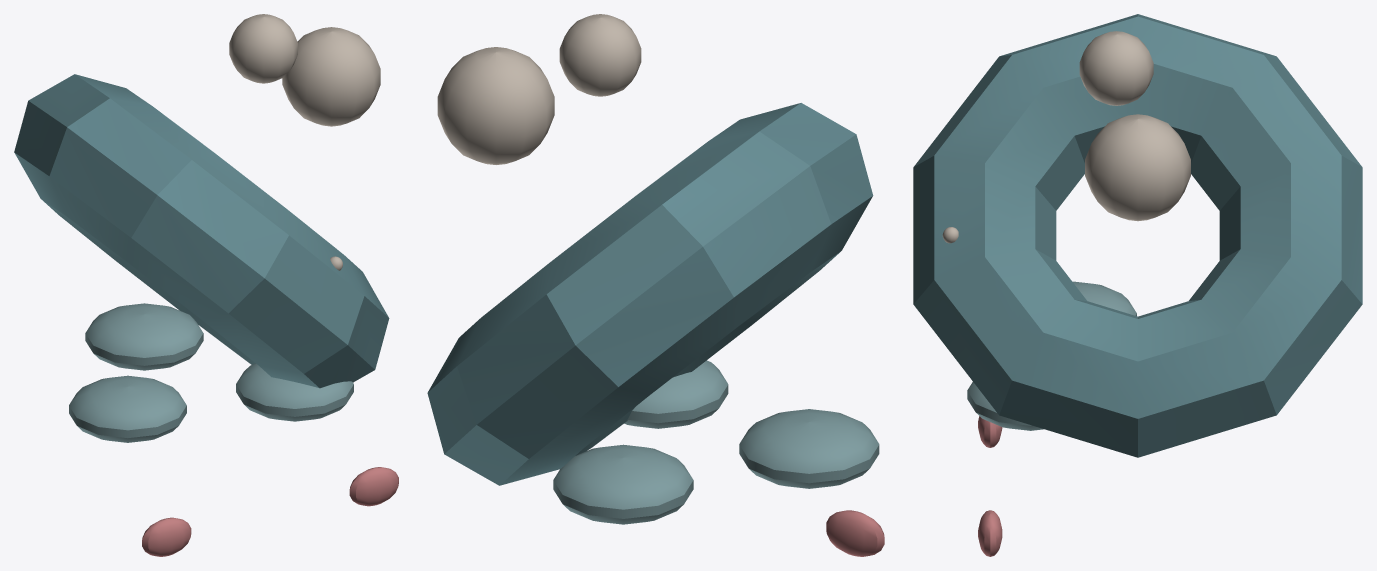
File: pf59e8bec.glb
3 views of the same model, side by side, from view 1: azimuth 30°, elevation 25°; view 2: azimuth 150°, elevation 25°; view 3: azimuth 270°, elevation 25° (orthographic). The views are drawn at different scales.
Parts seen in each view (by area): view 1: pet_pf59e8bec; view 2: pet_pf59e8bec; view 3: pet_pf59e8bec.
Boxes of the visible parts, x1,y1,x2,y2 form: pet_pf59e8bec: (14, 14, 398, 556); pet_pf59e8bec: (427, 14, 884, 556); pet_pf59e8bec: (913, 14, 1362, 556).
Bounding box in the file's own units: 0.3783 × 0.5052 × 0.4185.
